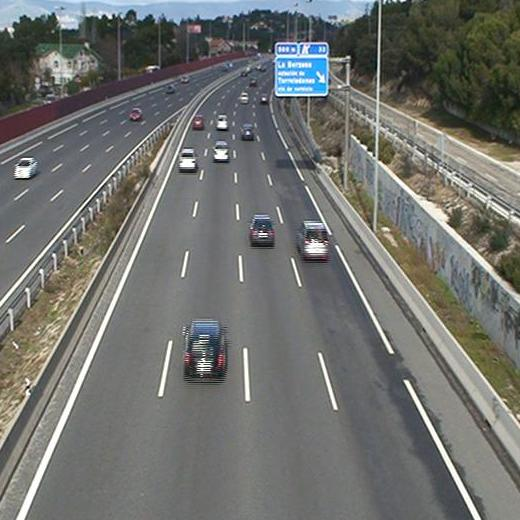car: (179, 315, 230, 387), (293, 217, 335, 266), (247, 212, 279, 249), (176, 146, 198, 174), (210, 140, 232, 165), (237, 122, 259, 143), (191, 113, 207, 132), (213, 114, 230, 131)
